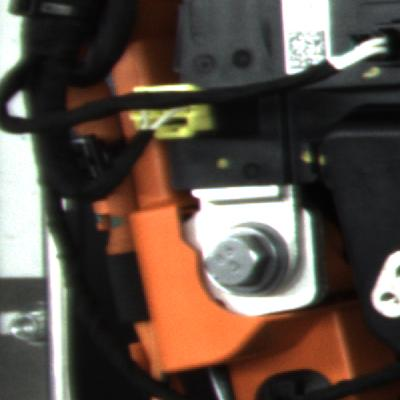nut_b: (195, 219, 296, 303)
